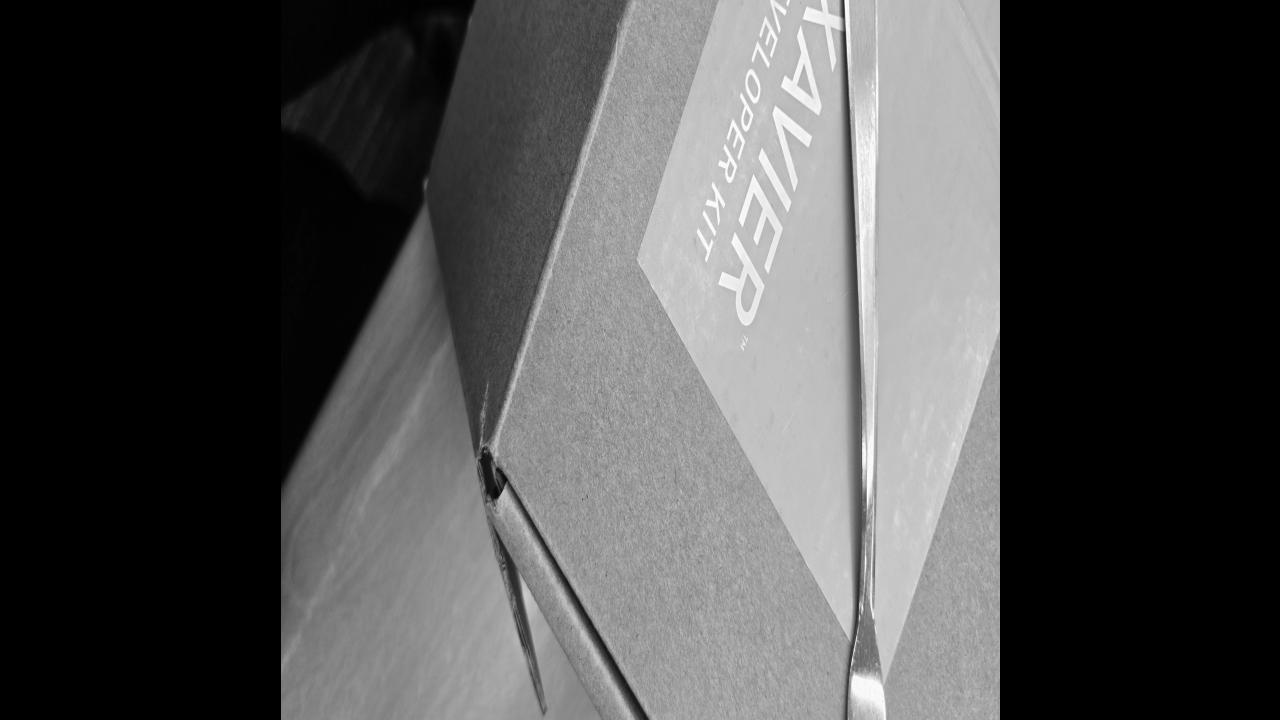fork: (837, 0, 895, 720)
